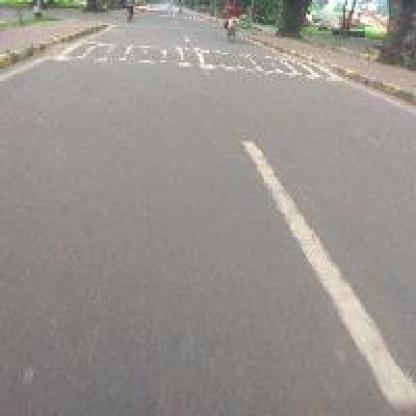Speed Bump: (40, 38, 343, 81)
